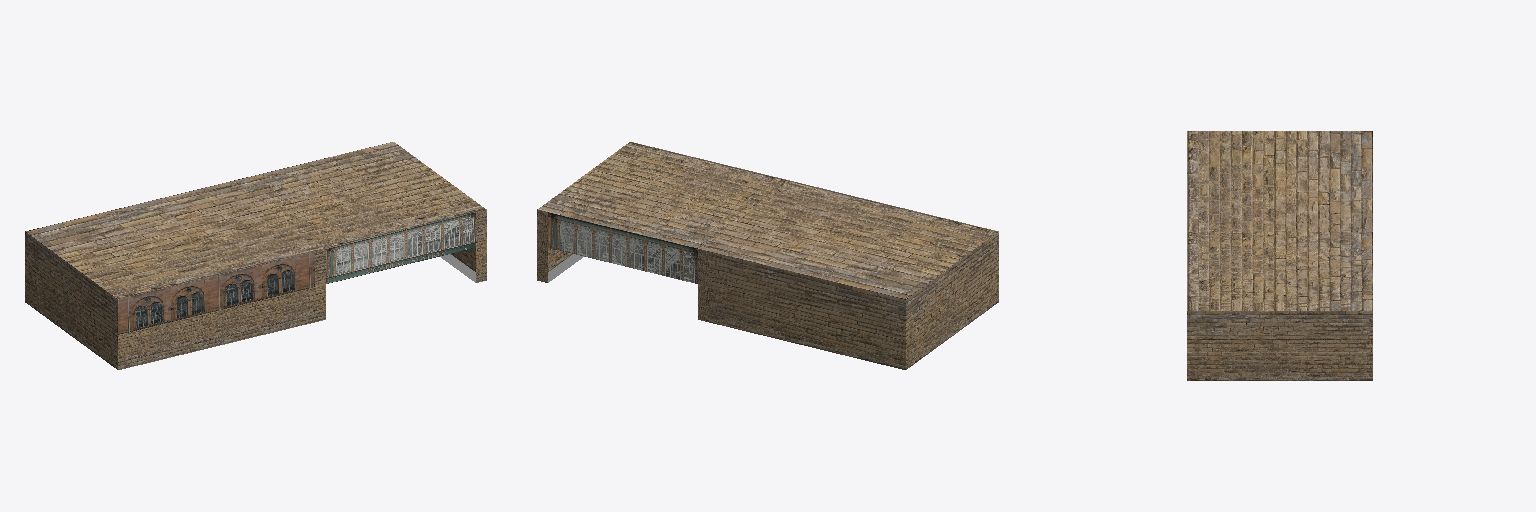
3 views of the same model, side by side, from view 1: azimuth 30°, elevation 25°; view 2: azimuth 150°, elevation 25°; view 3: azimuth 270°, elevation 25° (orthographic).
Parts seen in each view (by area): view 1: Box001; view 2: Box001; view 3: Box001.
Boxes of the visible parts, x1,y1,x2,y2 form: Box001: [25, 142, 486, 369]; Box001: [537, 142, 998, 369]; Box001: [1187, 131, 1372, 380].
Size of the model in its own units: 336 by 61.68 by 147.
Materials: 5 (3 with a texture image).